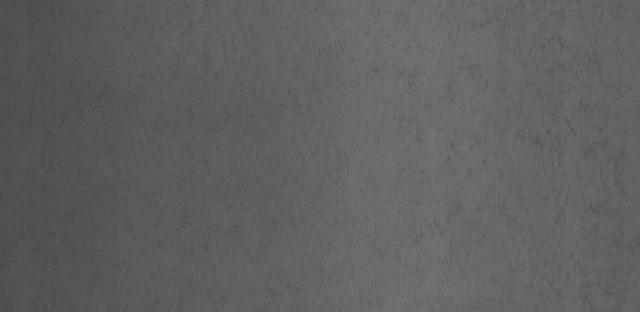silk_spot: (306, 63, 589, 270)
